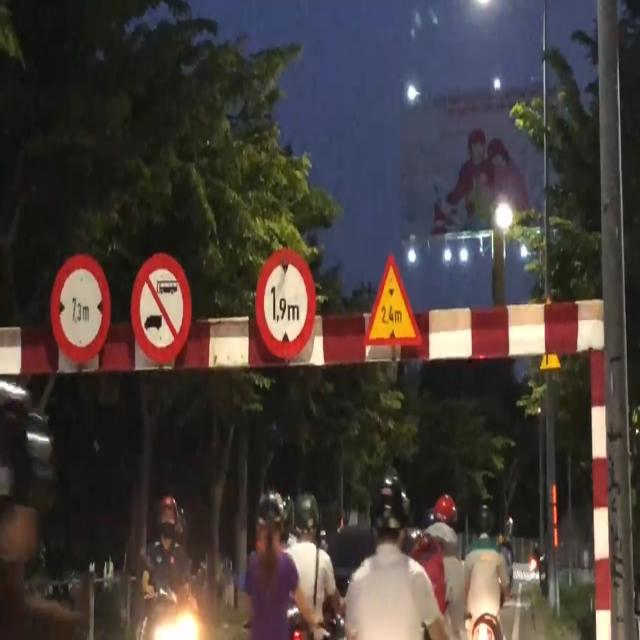Bien bao cam xe oto khach va xe oto tai: (127, 248, 194, 359)
Bien bao chieu cao tinh khong thuc te: (364, 245, 419, 352)
Bien bao han che chieu cao: (256, 241, 321, 363)
